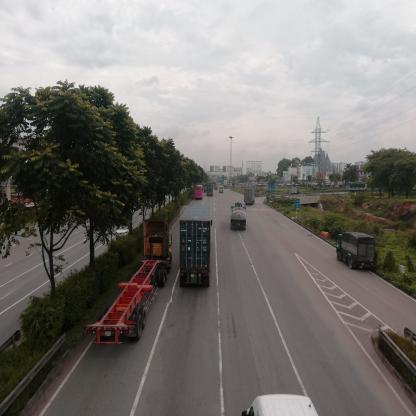bus: (195, 188, 202, 199)
container: (138, 219, 173, 304), (181, 207, 212, 289)
truck: (337, 233, 375, 272), (232, 204, 247, 231), (349, 182, 371, 193), (245, 189, 255, 206)
